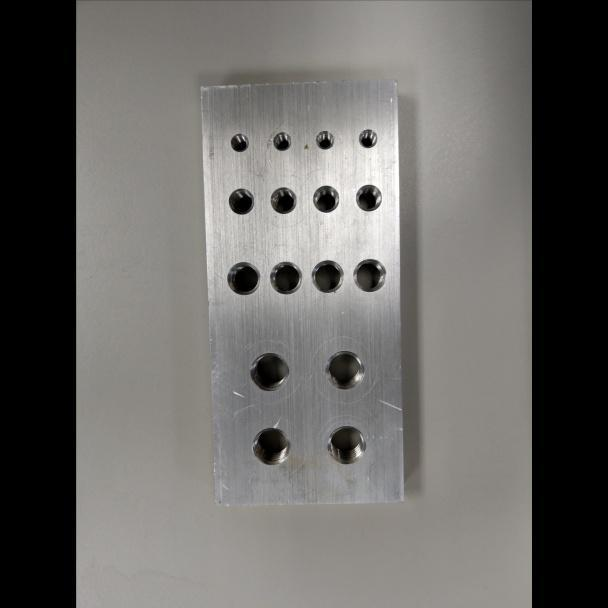hole: (323, 350, 365, 391), (325, 425, 367, 465), (248, 352, 290, 392), (251, 426, 290, 466), (224, 261, 261, 296), (351, 257, 386, 293), (309, 258, 344, 293), (268, 260, 303, 295), (311, 184, 340, 213), (226, 186, 255, 215), (354, 184, 383, 212), (269, 186, 297, 215), (356, 128, 378, 149), (314, 129, 335, 150), (228, 132, 250, 152), (271, 131, 291, 151)
